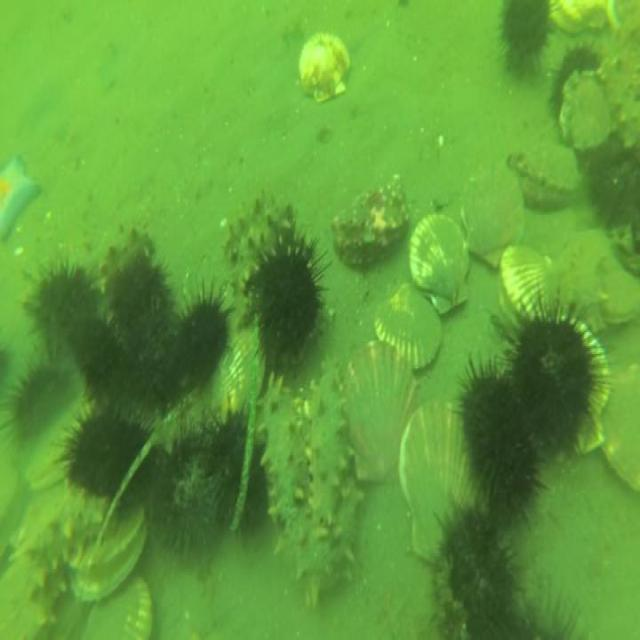echinus: (456, 356, 547, 518), (505, 299, 594, 444), (431, 501, 521, 629), (156, 419, 230, 558), (62, 408, 148, 501), (22, 259, 102, 357), (212, 403, 266, 544), (110, 253, 174, 351), (0, 362, 75, 442), (175, 280, 230, 382), (125, 332, 186, 412), (498, 0, 556, 82), (81, 322, 136, 408), (588, 139, 636, 232), (548, 44, 601, 120)
holothurian: (254, 369, 364, 612), (19, 488, 105, 640), (224, 185, 296, 299), (305, 348, 349, 531), (72, 218, 155, 291), (556, 226, 612, 316), (597, 54, 640, 153)
scallop: (398, 390, 469, 564), (340, 336, 422, 484), (246, 232, 329, 362), (70, 506, 150, 608), (459, 163, 526, 272), (372, 276, 444, 374), (408, 210, 472, 319), (22, 397, 92, 496), (205, 322, 267, 425), (574, 316, 612, 458), (601, 357, 639, 498), (80, 570, 155, 640), (497, 242, 555, 327), (295, 26, 355, 108), (510, 144, 584, 210), (598, 266, 640, 327), (549, 0, 610, 38)
starfish: (0, 145, 44, 247)
